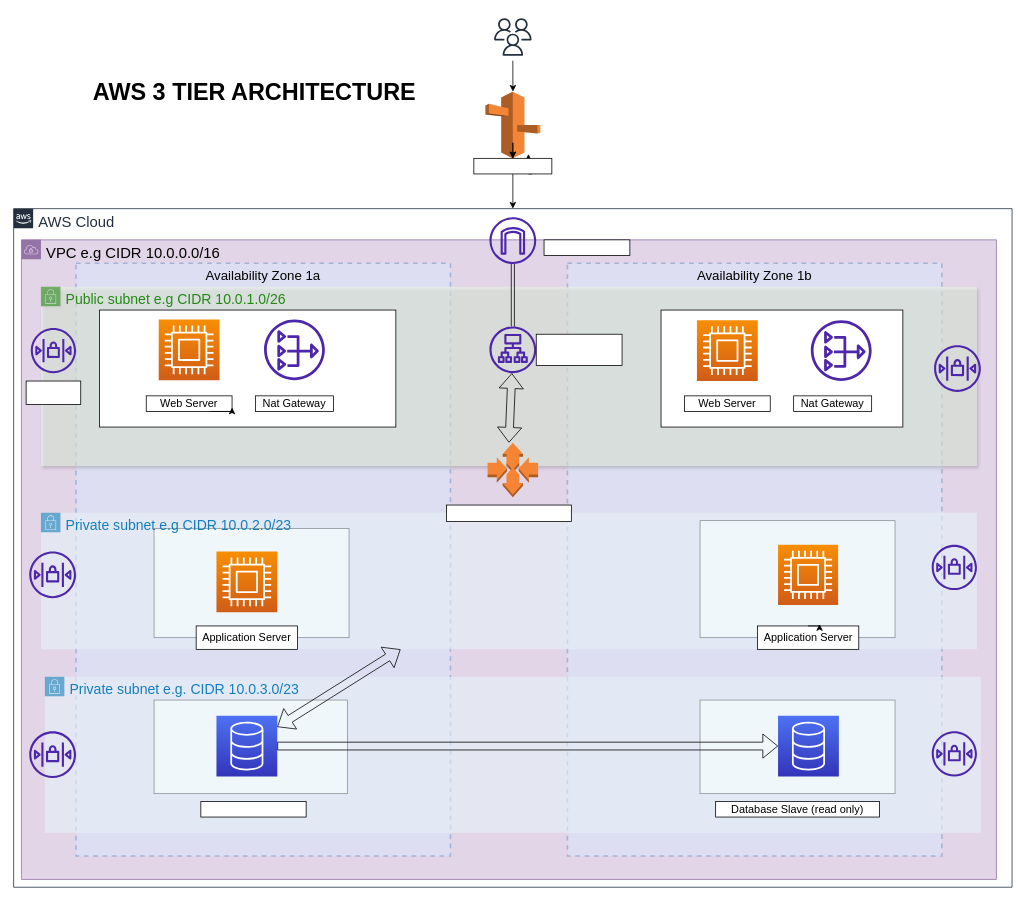
Image size: 1026x901. Some labels were removed from this diagram. Each missing label, with the centre of its shape:
"Application Load Balancer" goes at pixel 578 349.
"Auto Scaling Group" goes at pixel 508 512.
"Database Master" goes at pixel 253 809.
"Internet Gateway" goes at pixel 586 247.
"NACL" goes at pixel 53 392.
"Route 53" goes at pixel 512 166.
"Users" goes at pixel 512 36.
